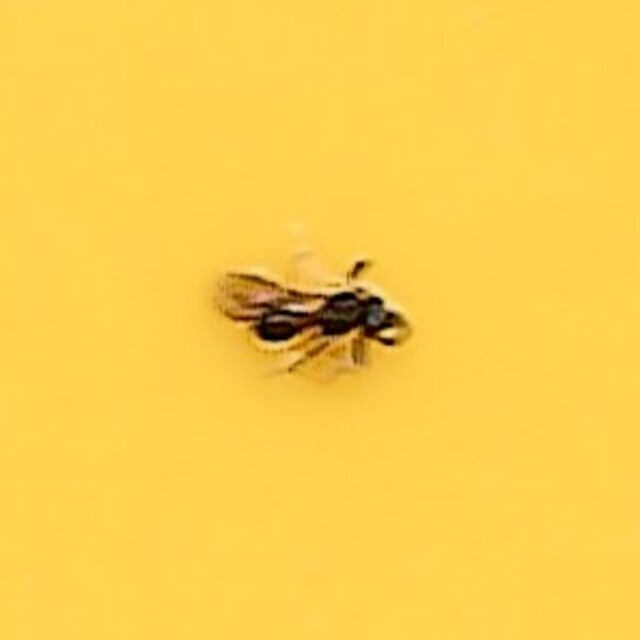Hymenoptera: (215, 254, 425, 386)
